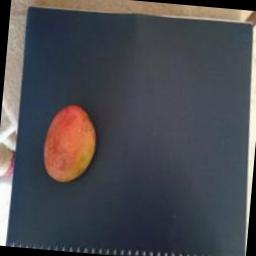Mango Unripe: (33, 94, 104, 189)
